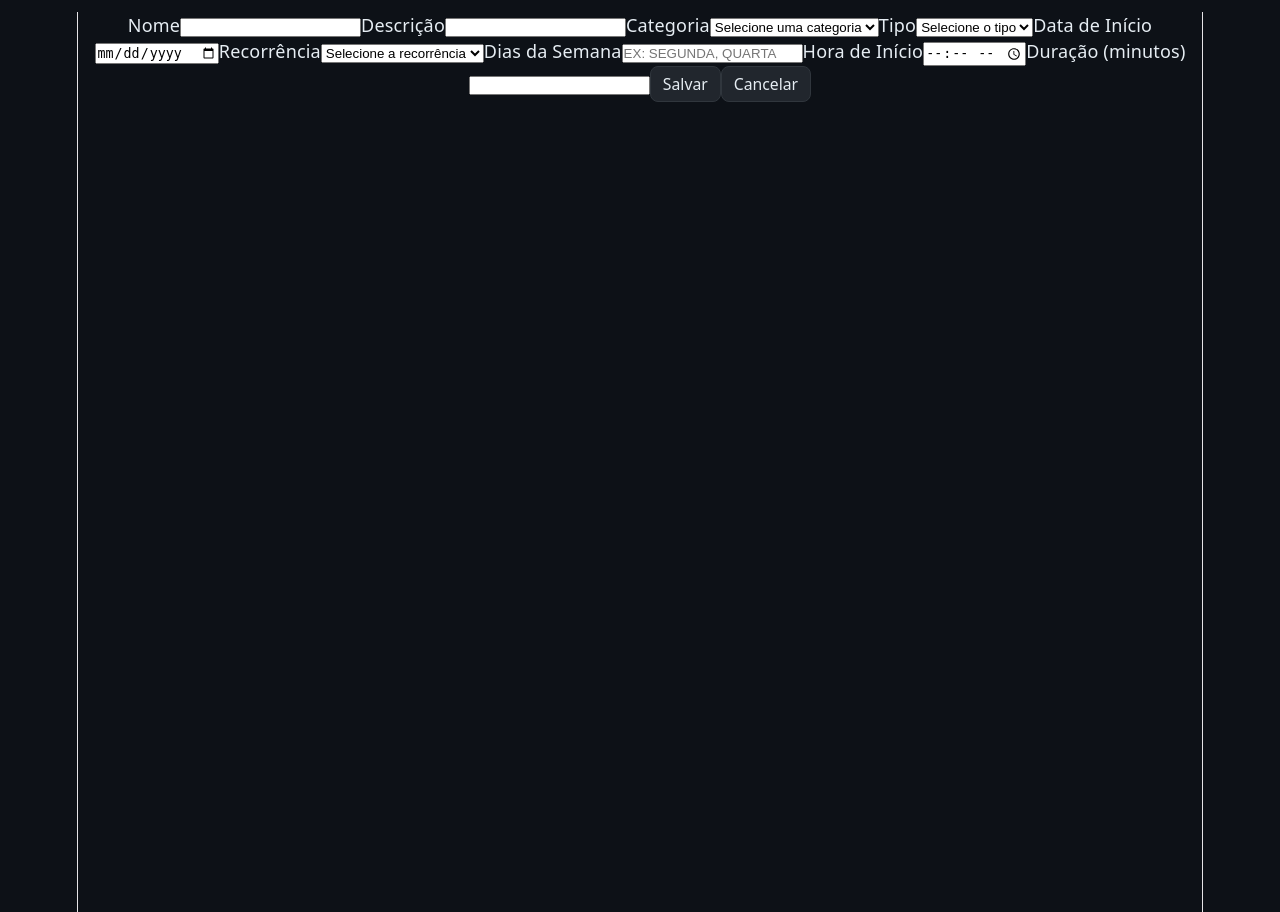
TarefaForm › limpa só o erro do campo editado, mantendo os outros
The image size is (1280, 912).
Click the button "Salvar".
click(685, 84)  # box [650,66,721,102]
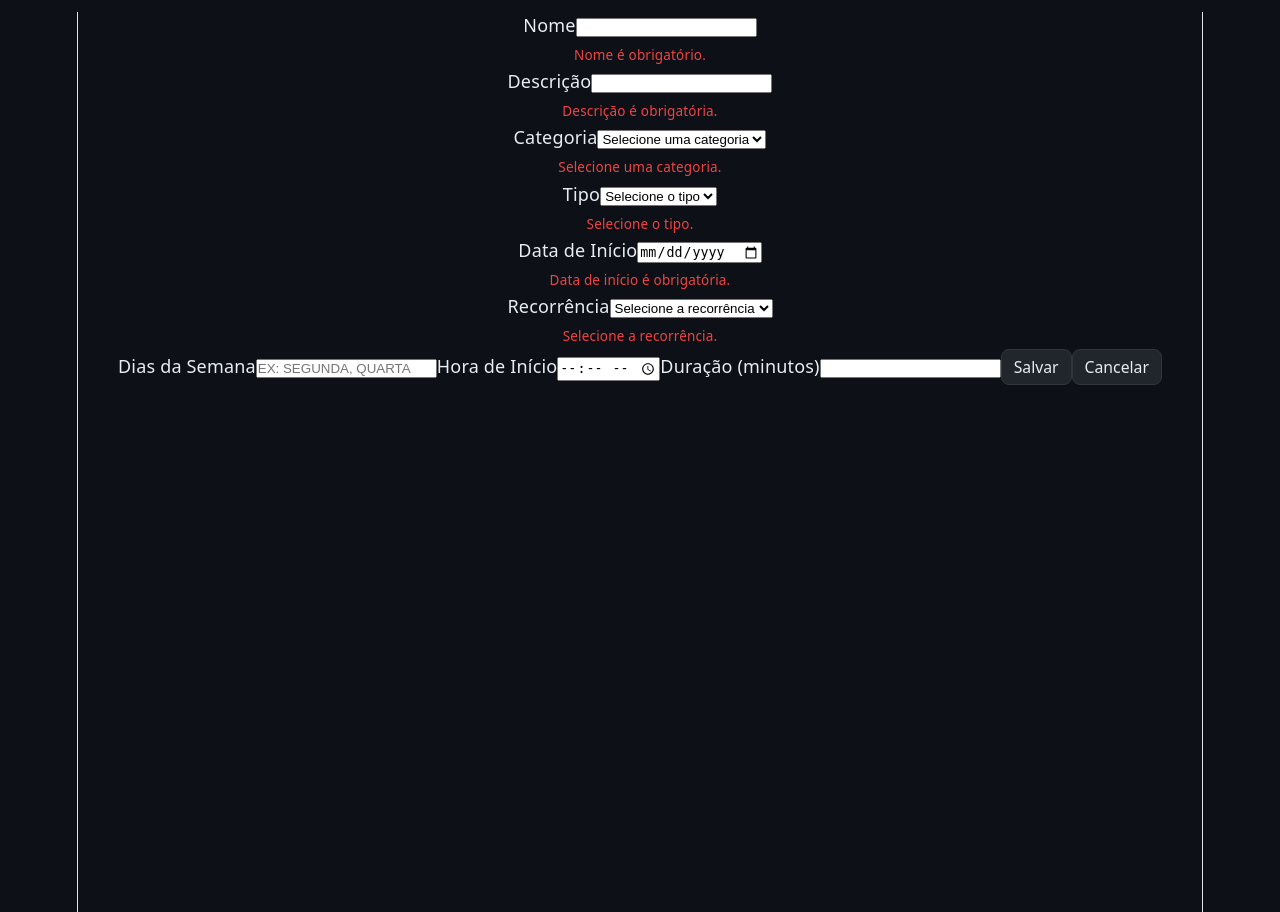
Expected: the text "Nome é obrigatório." is shown, [574,46,706,64]
Type "Reunião" into the field labelled "Nome".
click(666, 28); type("Reunião")  # box [576,18,757,37]
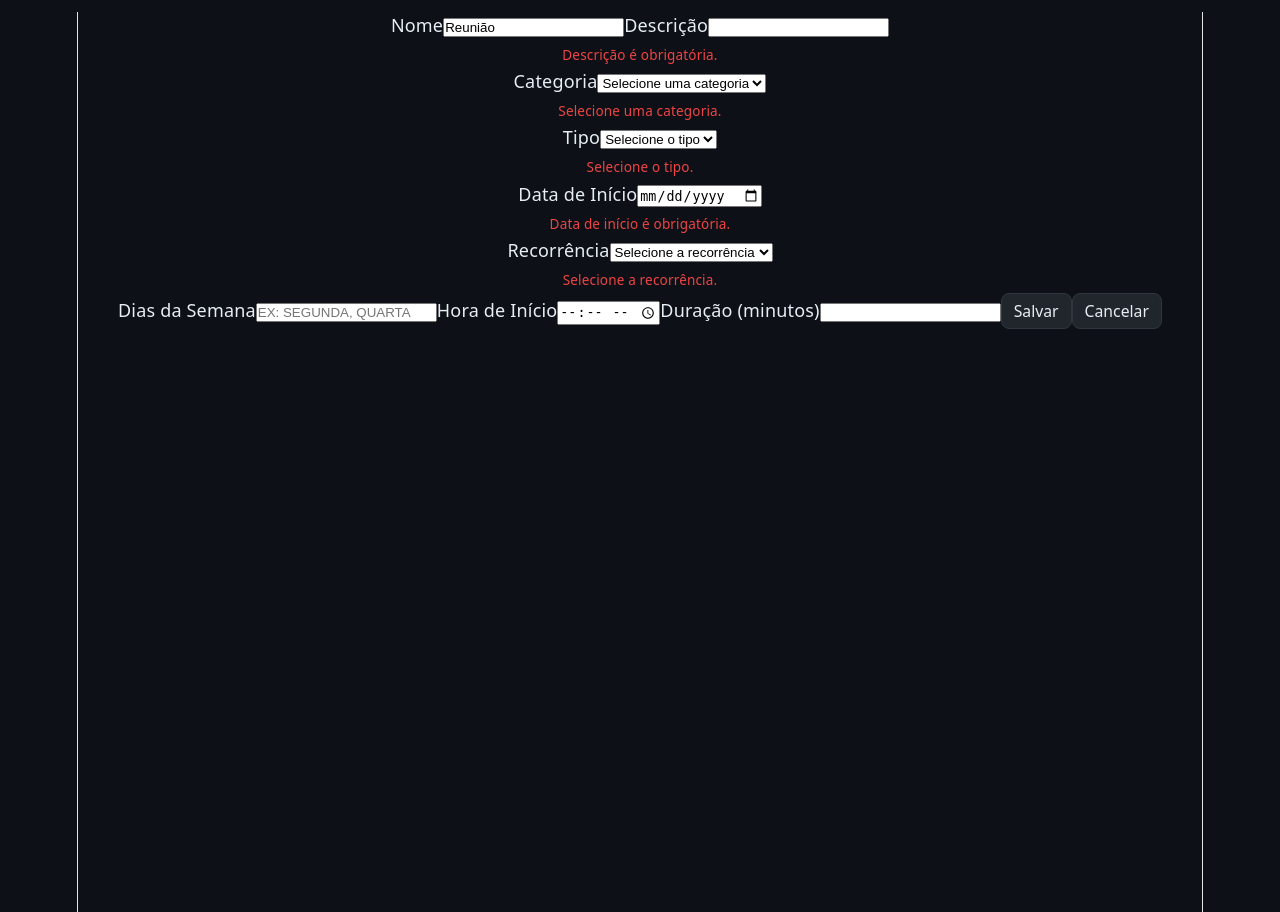
Expected: the text "Descrição é obrigatória." is shown, [562,46,718,64]
Expected: the text "Nome é obrigatório." is gone
